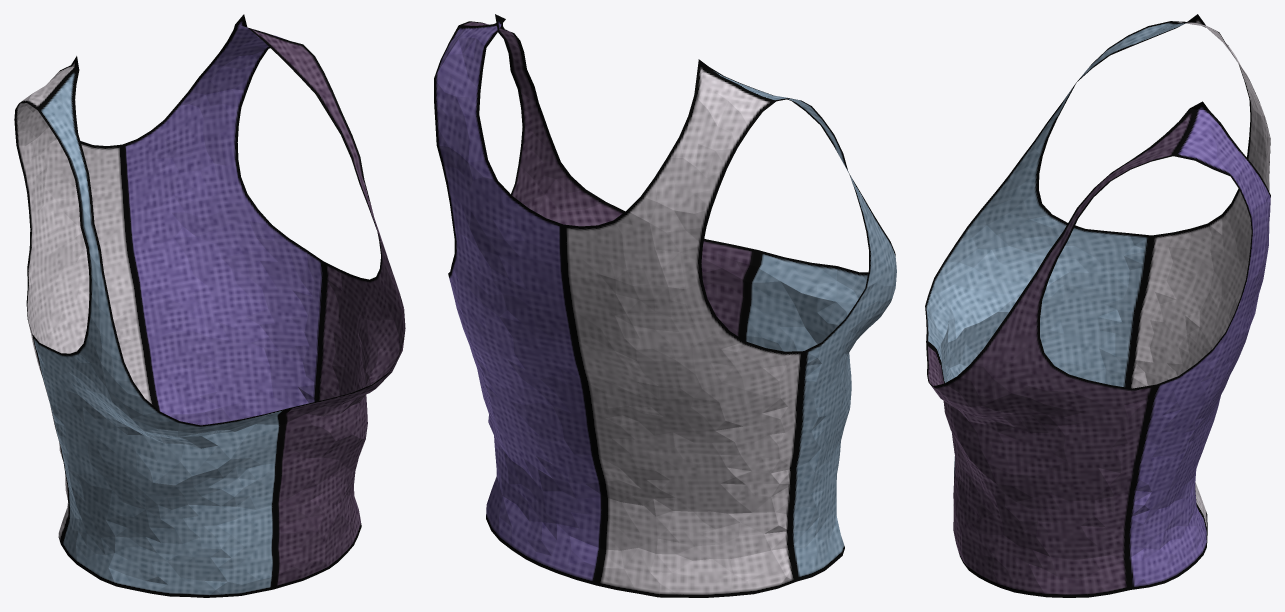
Rendered from tank_knit_sim.obj.
3 views of the same model, side by side, from view 1: azimuth 30°, elevation 25°; view 2: azimuth 150°, elevation 25°; view 3: azimuth 270°, elevation 25° (orthographic). The views are drawn at different scales.
Size of the model in its own units: 21.14 by 31.3 by 20.16.
1 material, 1 textured.
